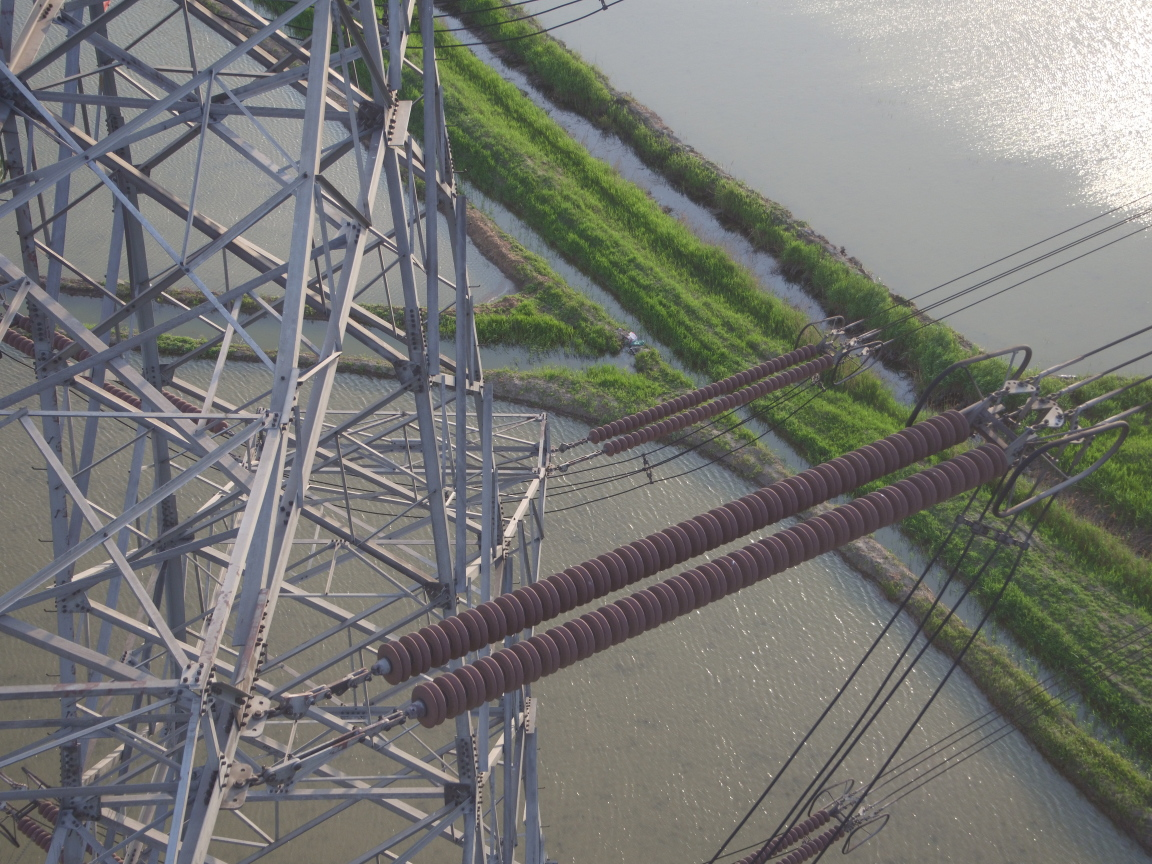insulator: (348, 402, 1025, 735), (579, 340, 837, 457)
